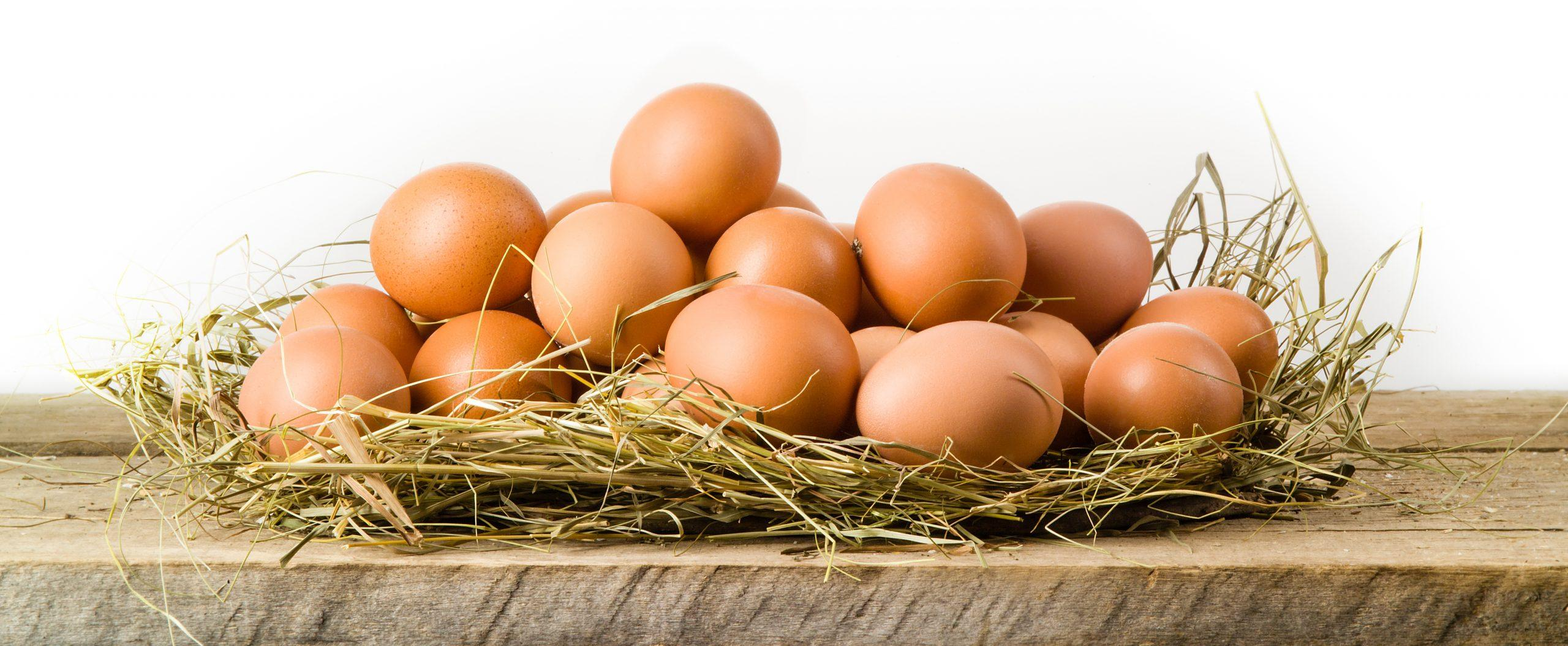egg: (847, 298, 1060, 465), (658, 276, 861, 447), (365, 149, 553, 322), (851, 151, 1035, 318), (527, 198, 700, 374), (609, 72, 788, 239), (239, 327, 415, 461), (1080, 316, 1247, 443), (416, 300, 578, 427), (1017, 192, 1156, 310)
